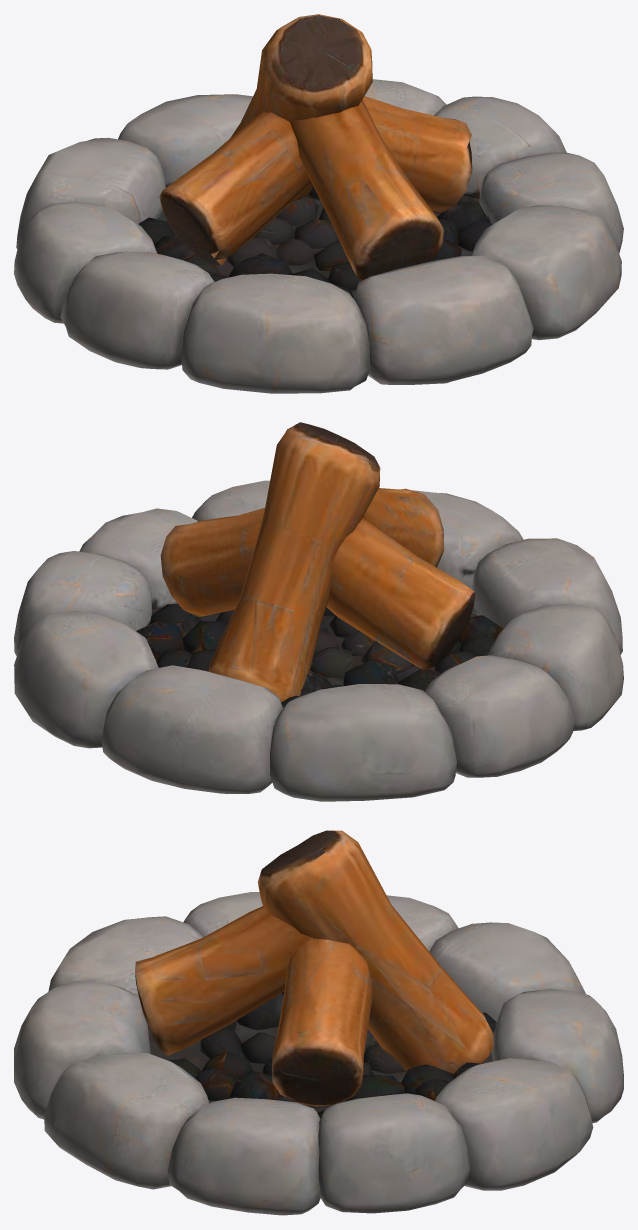
The model's file is campfire.glb.
The picture shows the model from 3 angles, top to bottom: view 1: azimuth 30°, elevation 25°; view 2: azimuth 150°, elevation 25°; view 3: azimuth 270°, elevation 25°; orthographic projection.
Size of the model in its own units: 1 by 0.4712 by 0.9999.
1 material, 1 textured.
